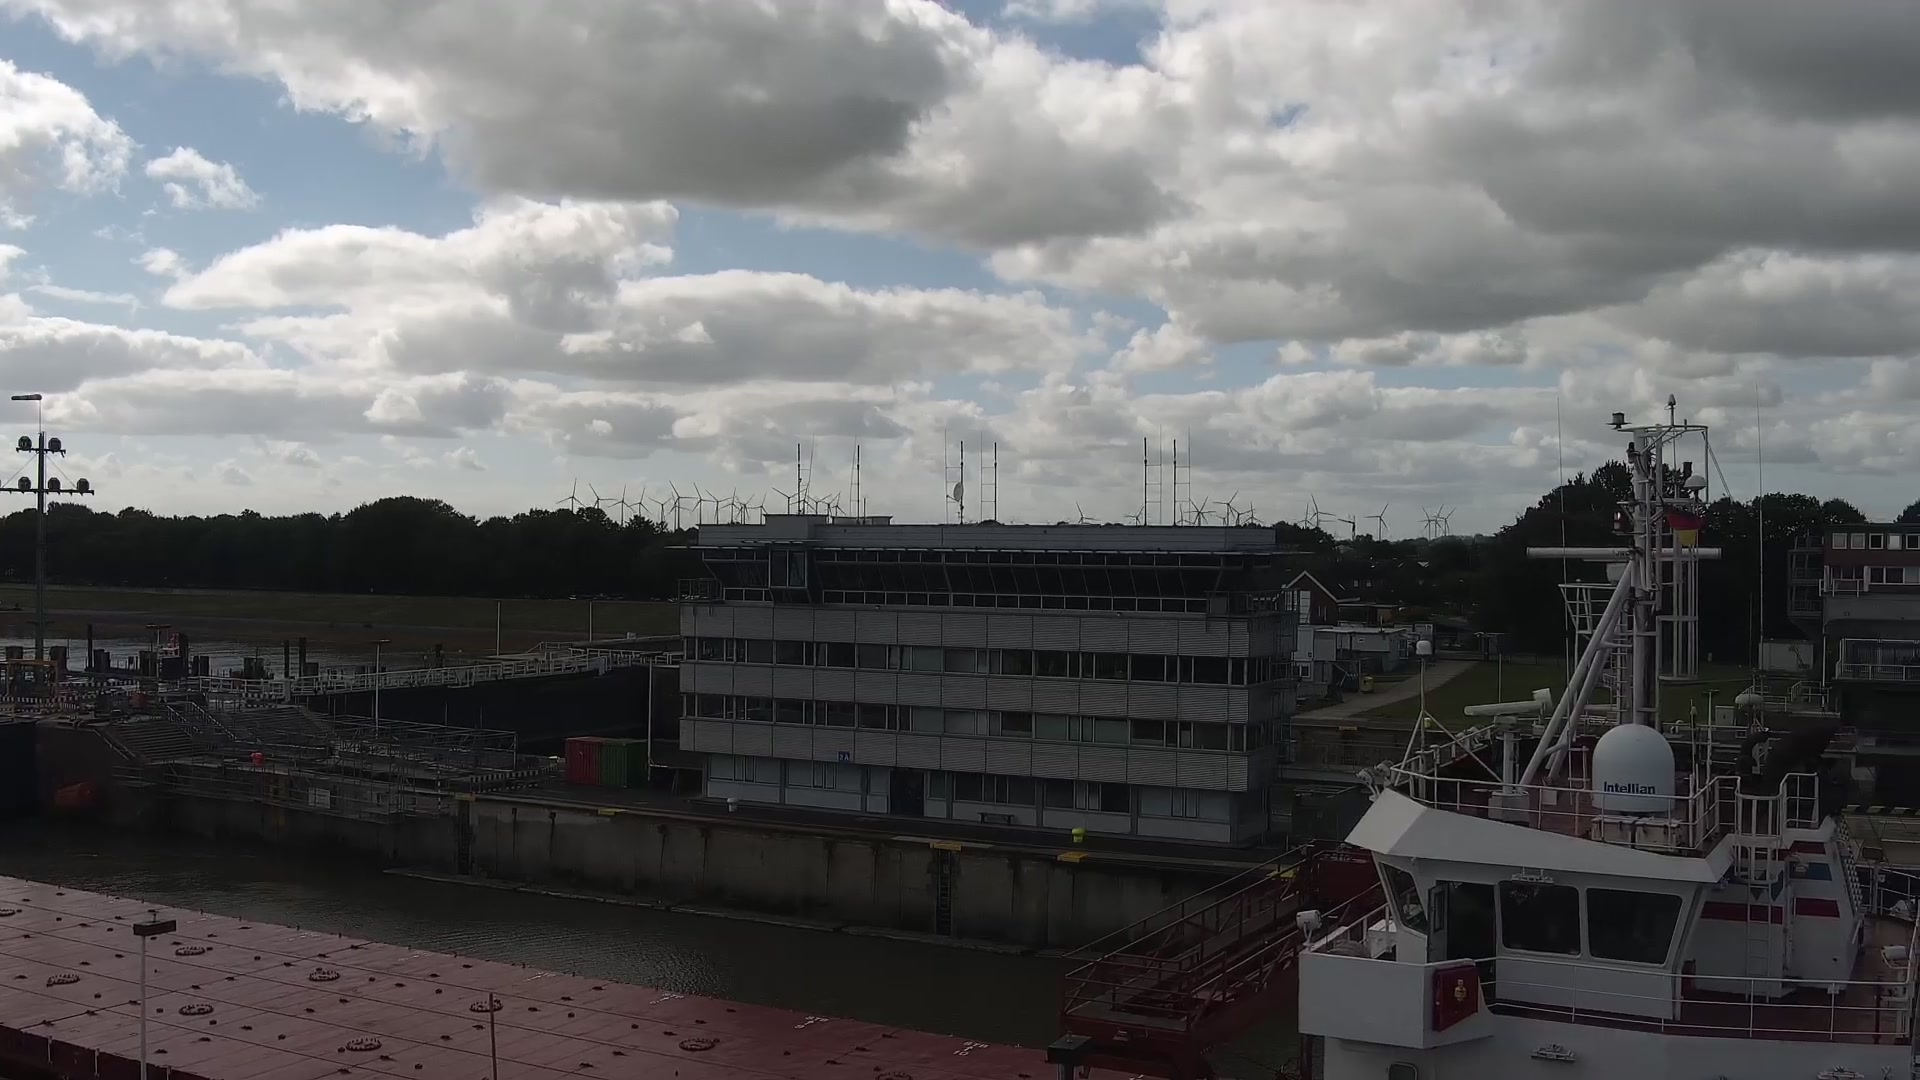sea: (1, 392, 1916, 1080)
